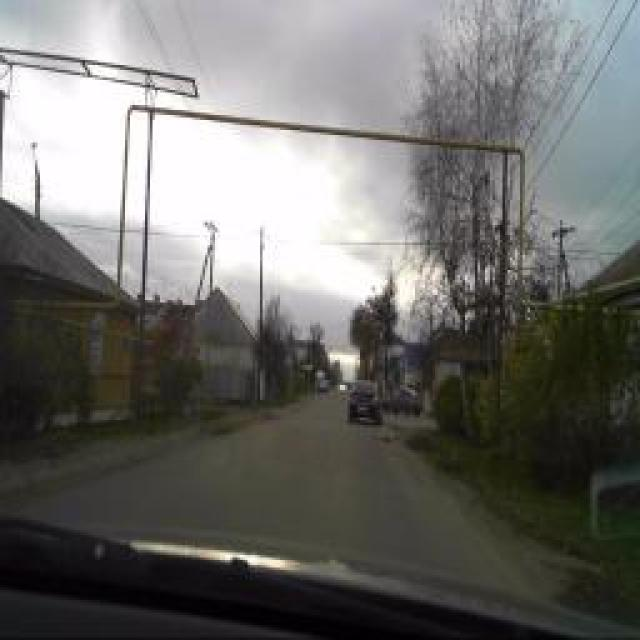sign: (285, 352, 295, 368), (397, 355, 405, 370)
